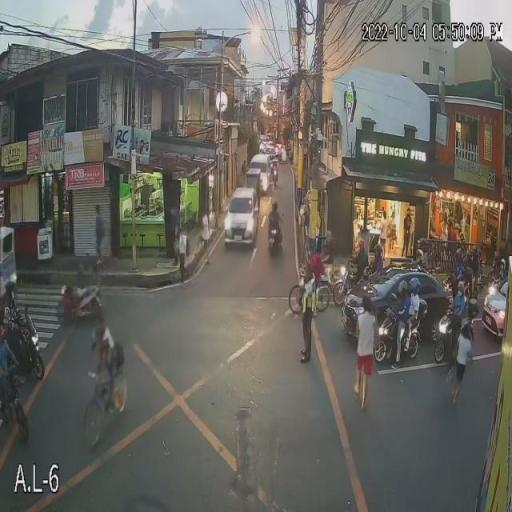helmet: (409, 276, 420, 290), (454, 309, 466, 321), (356, 298, 367, 310), (393, 281, 404, 292)
motorcycle: (0, 302, 46, 384), (376, 302, 422, 368), (58, 282, 106, 332), (0, 362, 30, 440), (432, 300, 466, 365), (474, 273, 500, 336), (326, 260, 364, 302), (266, 220, 284, 258)
rider: (385, 282, 413, 348), (1, 308, 22, 365), (406, 277, 426, 331), (437, 295, 458, 343), (58, 283, 81, 324), (462, 257, 480, 302), (268, 201, 282, 247)
